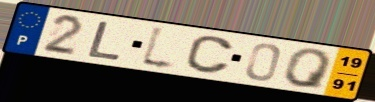0: (243, 42, 283, 82)
2: (40, 14, 86, 58)
C: (183, 34, 236, 76)
L: (137, 23, 180, 74), (84, 20, 124, 62)
Q: (282, 48, 335, 91)
